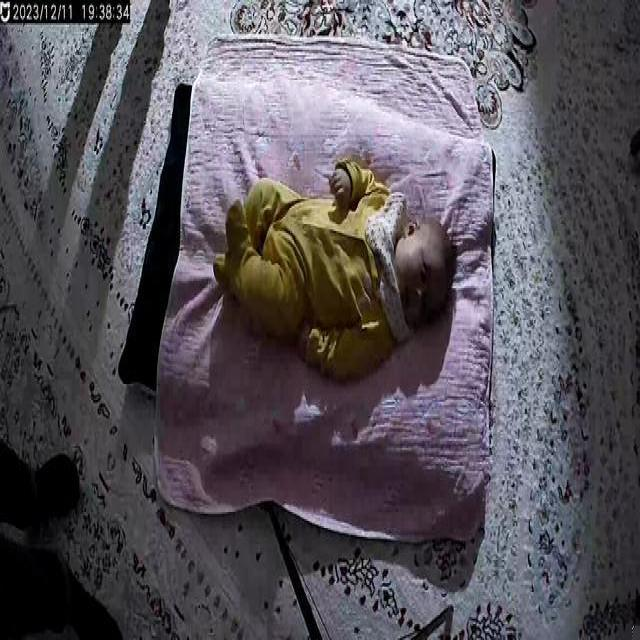baby: (208, 157, 458, 390)
